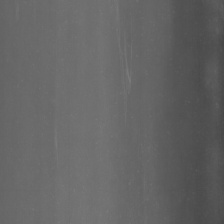silk_spot: (117, 27, 138, 108)
